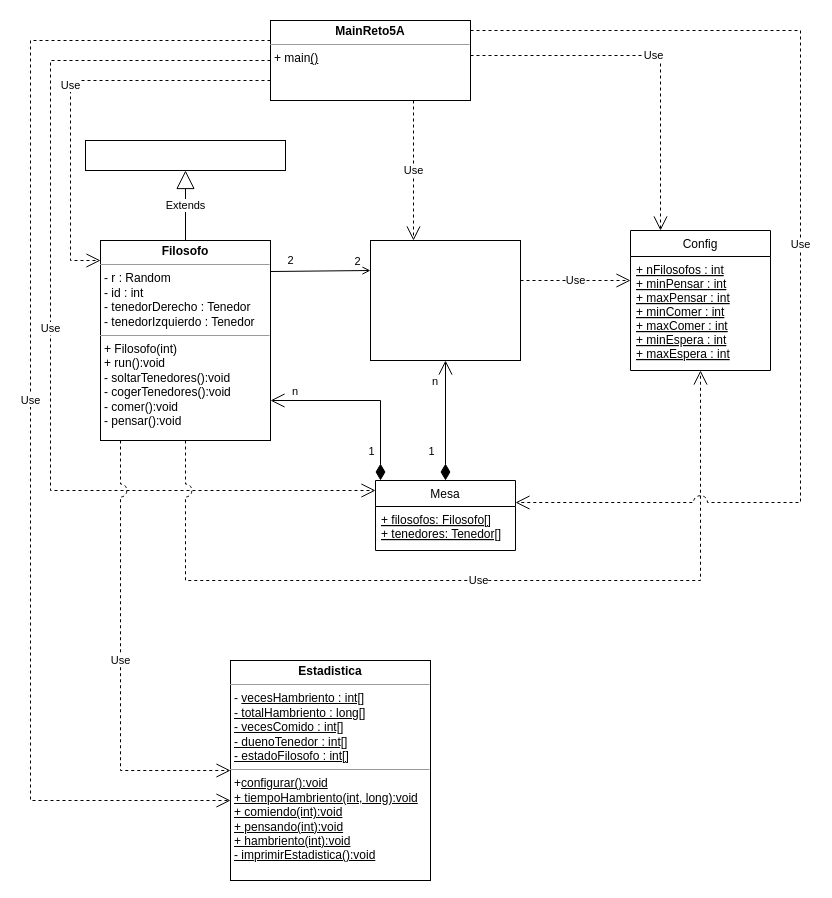
Some shapes in this 832 by 898 pixel diagram are drawn without their labels. The shapes that lost their labels are listed below. From the top down, each one's centre as x and y in pixels, then its label:
At point (185, 155): "Thread".
At point (445, 300): "Tenedor - libre : Semaphore + cogerSeguro() + cogerSiSePuede() - dejar()".
